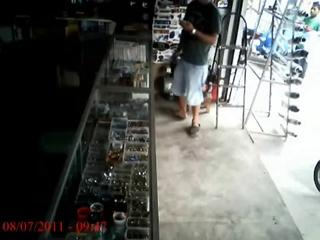Normal: (304, 3, 320, 33)
shoplifting: (168, 0, 222, 135)
